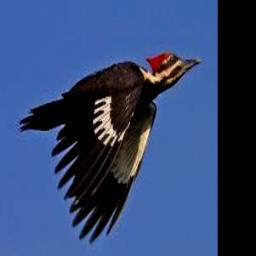Woodpecker: (19, 51, 201, 243)
